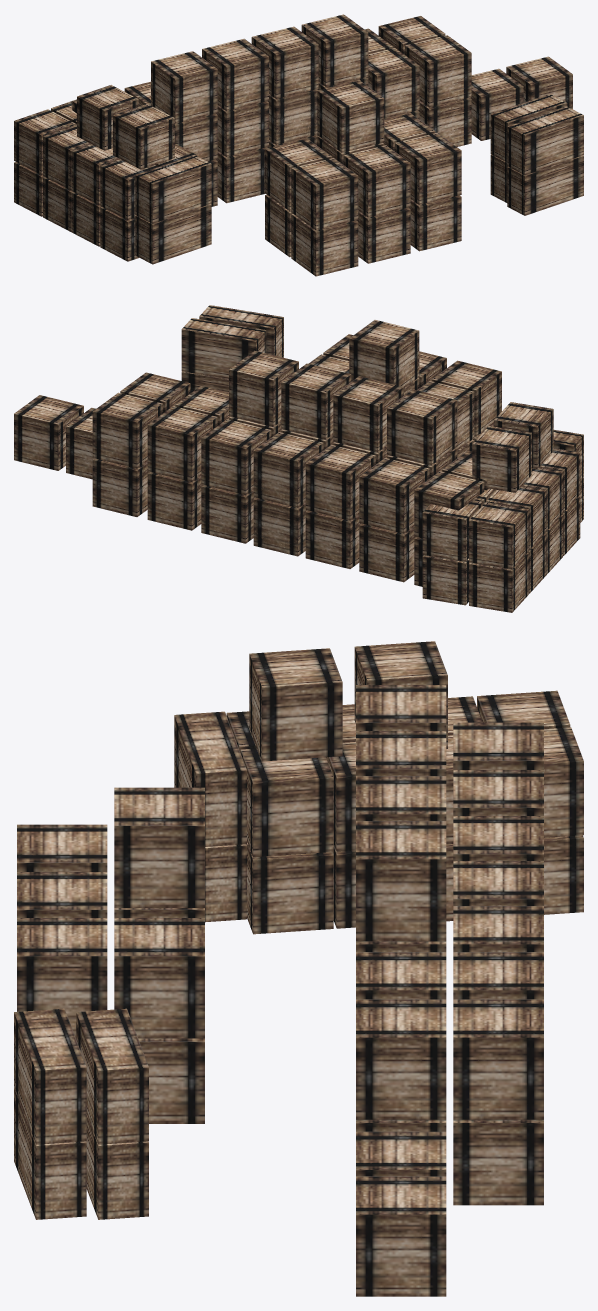
Rendered from storehouse_prop.dae.
3 views of the same model, one above another, from view 1: azimuth 30°, elevation 25°; view 2: azimuth 150°, elevation 25°; view 3: azimuth 270°, elevation 25° (orthographic). The views are drawn at different scales.
Visible parts, largest first — view 1: cargo; view 2: cargo; view 3: cargo.
Part boxes in pixels (left/top/right/bottom): cargo: left=14, top=14, right=583, bottom=276; cargo: left=14, top=305, right=583, bottom=612; cargo: left=14, top=641, right=583, bottom=1296.
Size of the model in its own units: 20.43 by 10.8 by 5.5.
